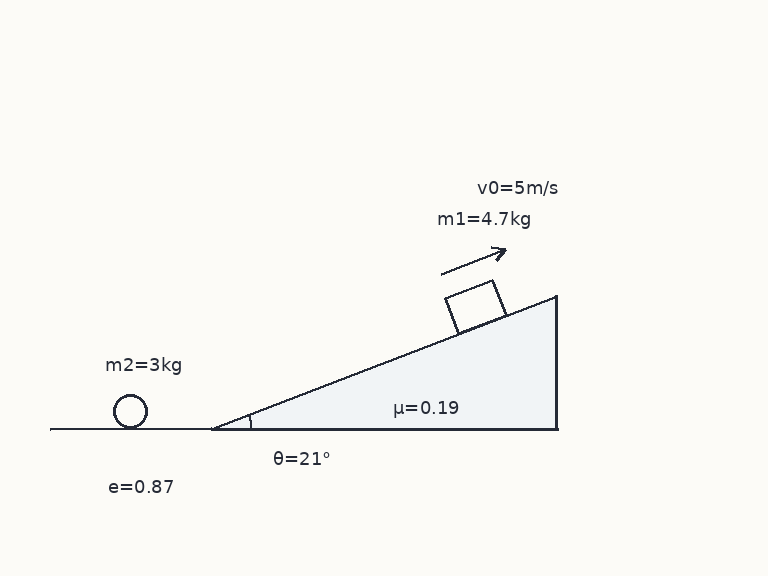ball: (111, 392, 149, 430)
block: (443, 278, 508, 335)
ramp: (209, 293, 558, 430)
